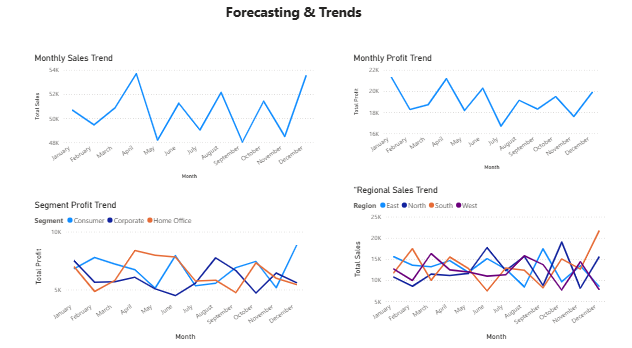

The page's visual inventory and layout, read from the dashboard file:
{"tool":"powerbi","page":{"name":"Forecasting & Trends","canvas":[1280,720],"ordinal":2},"visuals":[{"type":"lineChart","title":"Monthly Sales Trend","fields":{"Category":["sales_finance_dataset.OrderDate.Variation.Date Hierarchy.Month","sales_finance_dataset.OrderDate.Variation.Date Hierarchy.Day"],"Y":["sales_finance_dataset.Total Sales"]},"box":[103.4,124.9,556.1,251.7],"z":0},{"type":"lineChart","title":"Monthly Profit Trend","fields":{"Category":["sales_finance_dataset.OrderDate.Variation.Date Hierarchy.Month","sales_finance_dataset.OrderDate.Variation.Date Hierarchy.Day"],"Y":["sales_finance_dataset.Total Profit"]},"box":[725.9,124.9,489.8,234.1],"z":1},{"type":"lineChart","title":"“Regional Sales Trend","fields":{"Category":["sales_finance_dataset.OrderDate.Variation.Date Hierarchy.Month","sales_finance_dataset.OrderDate.Variation.Date Hierarchy.Day"],"Y":["sales_finance_dataset.Total Sales"],"Series":["sales_finance_dataset.Region"]},"box":[725.9,382.4,503.4,308.3],"z":2},{"type":"lineChart","title":"Segment Profit Trend","fields":{"Category":["sales_finance_dataset.OrderDate.Variation.Date Hierarchy.Month","sales_finance_dataset.OrderDate.Variation.Date Hierarchy.Day"],"Y":["sales_finance_dataset.Total Profit"],"Series":["sales_finance_dataset.Segment"]},"box":[103.4,411.7,536.6,279],"z":3},{"type":"textbox","box":[476.1,21.5,364.9,50.7],"z":4}]}

Visuals, with their boxes in screenshot pixels (x1, y1, x2, y2), scaled from the page's 1280x720 canvas onto the 632x348 screenshot:
"Monthly Sales Trend" lineChart: region(51, 60, 326, 182)
"Monthly Profit Trend" lineChart: region(358, 60, 600, 174)
"“Regional Sales Trend" lineChart: region(358, 185, 607, 334)
"Segment Profit Trend" lineChart: region(51, 199, 316, 334)
textbox: region(235, 10, 415, 35)
